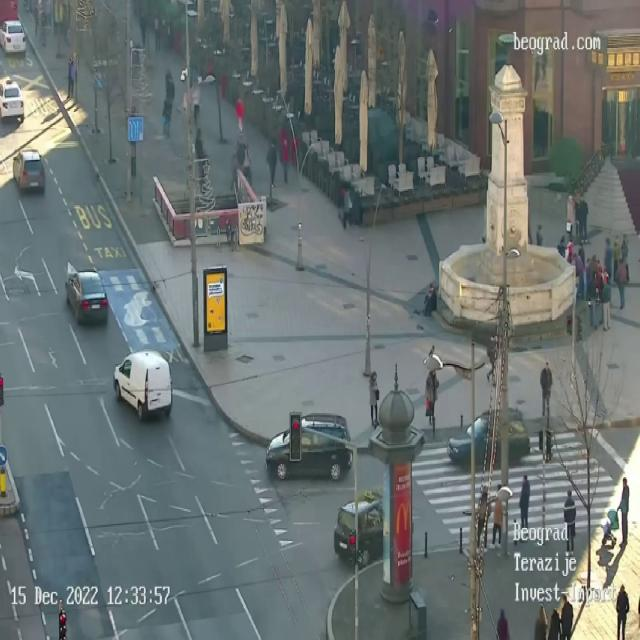car: (266, 413, 352, 481), (446, 407, 530, 467), (114, 349, 172, 422), (334, 496, 384, 568), (65, 260, 109, 324), (13, 149, 45, 191), (0, 78, 22, 123), (0, 18, 26, 54)
